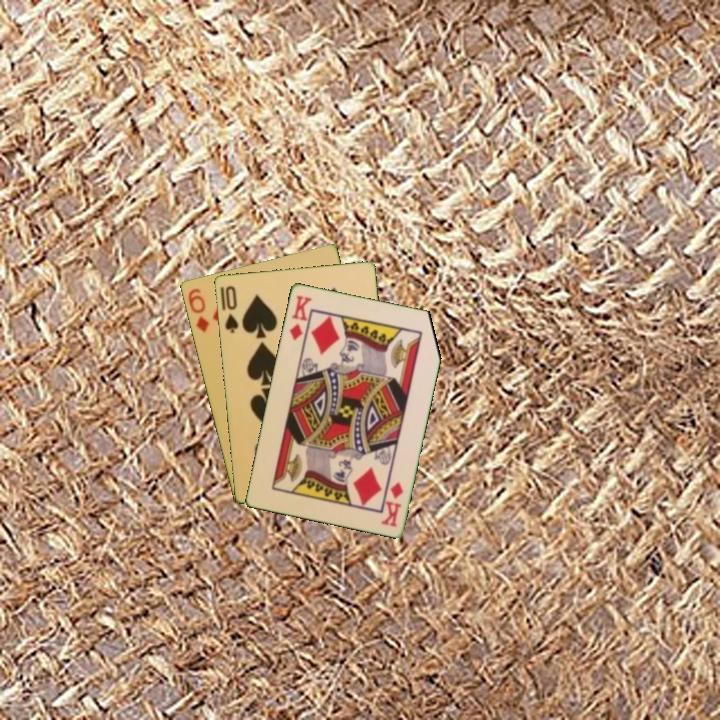10s: (221, 282, 241, 336)
6d: (184, 284, 212, 335)
Kd: (286, 291, 315, 343), (378, 478, 406, 529)
